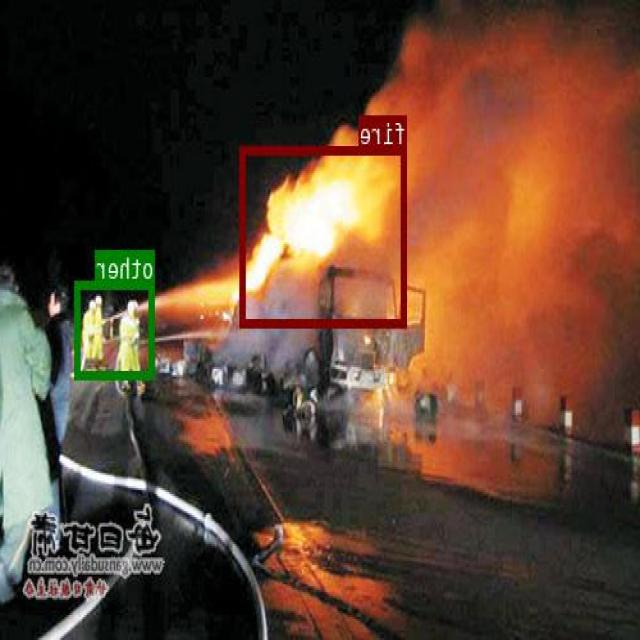fire: (241, 144, 408, 326)
other: (76, 280, 155, 377)
